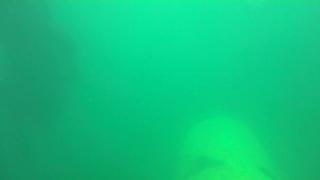pipe: (172, 116, 288, 180)
